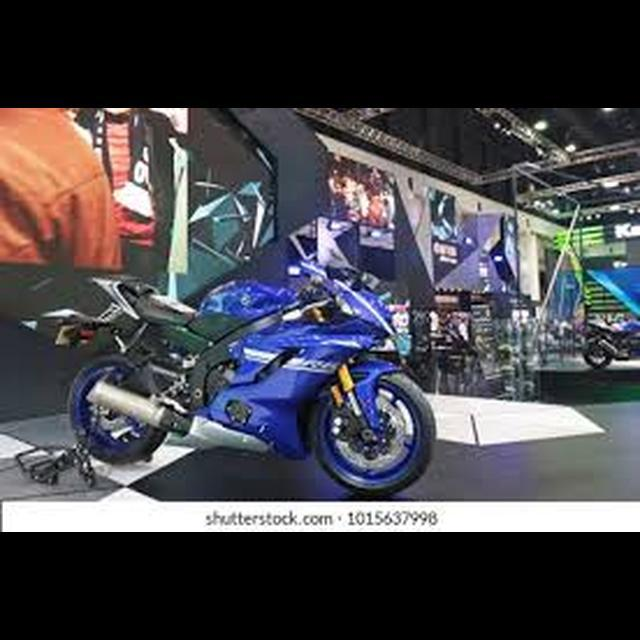motorcycle: (36, 229, 439, 499)
